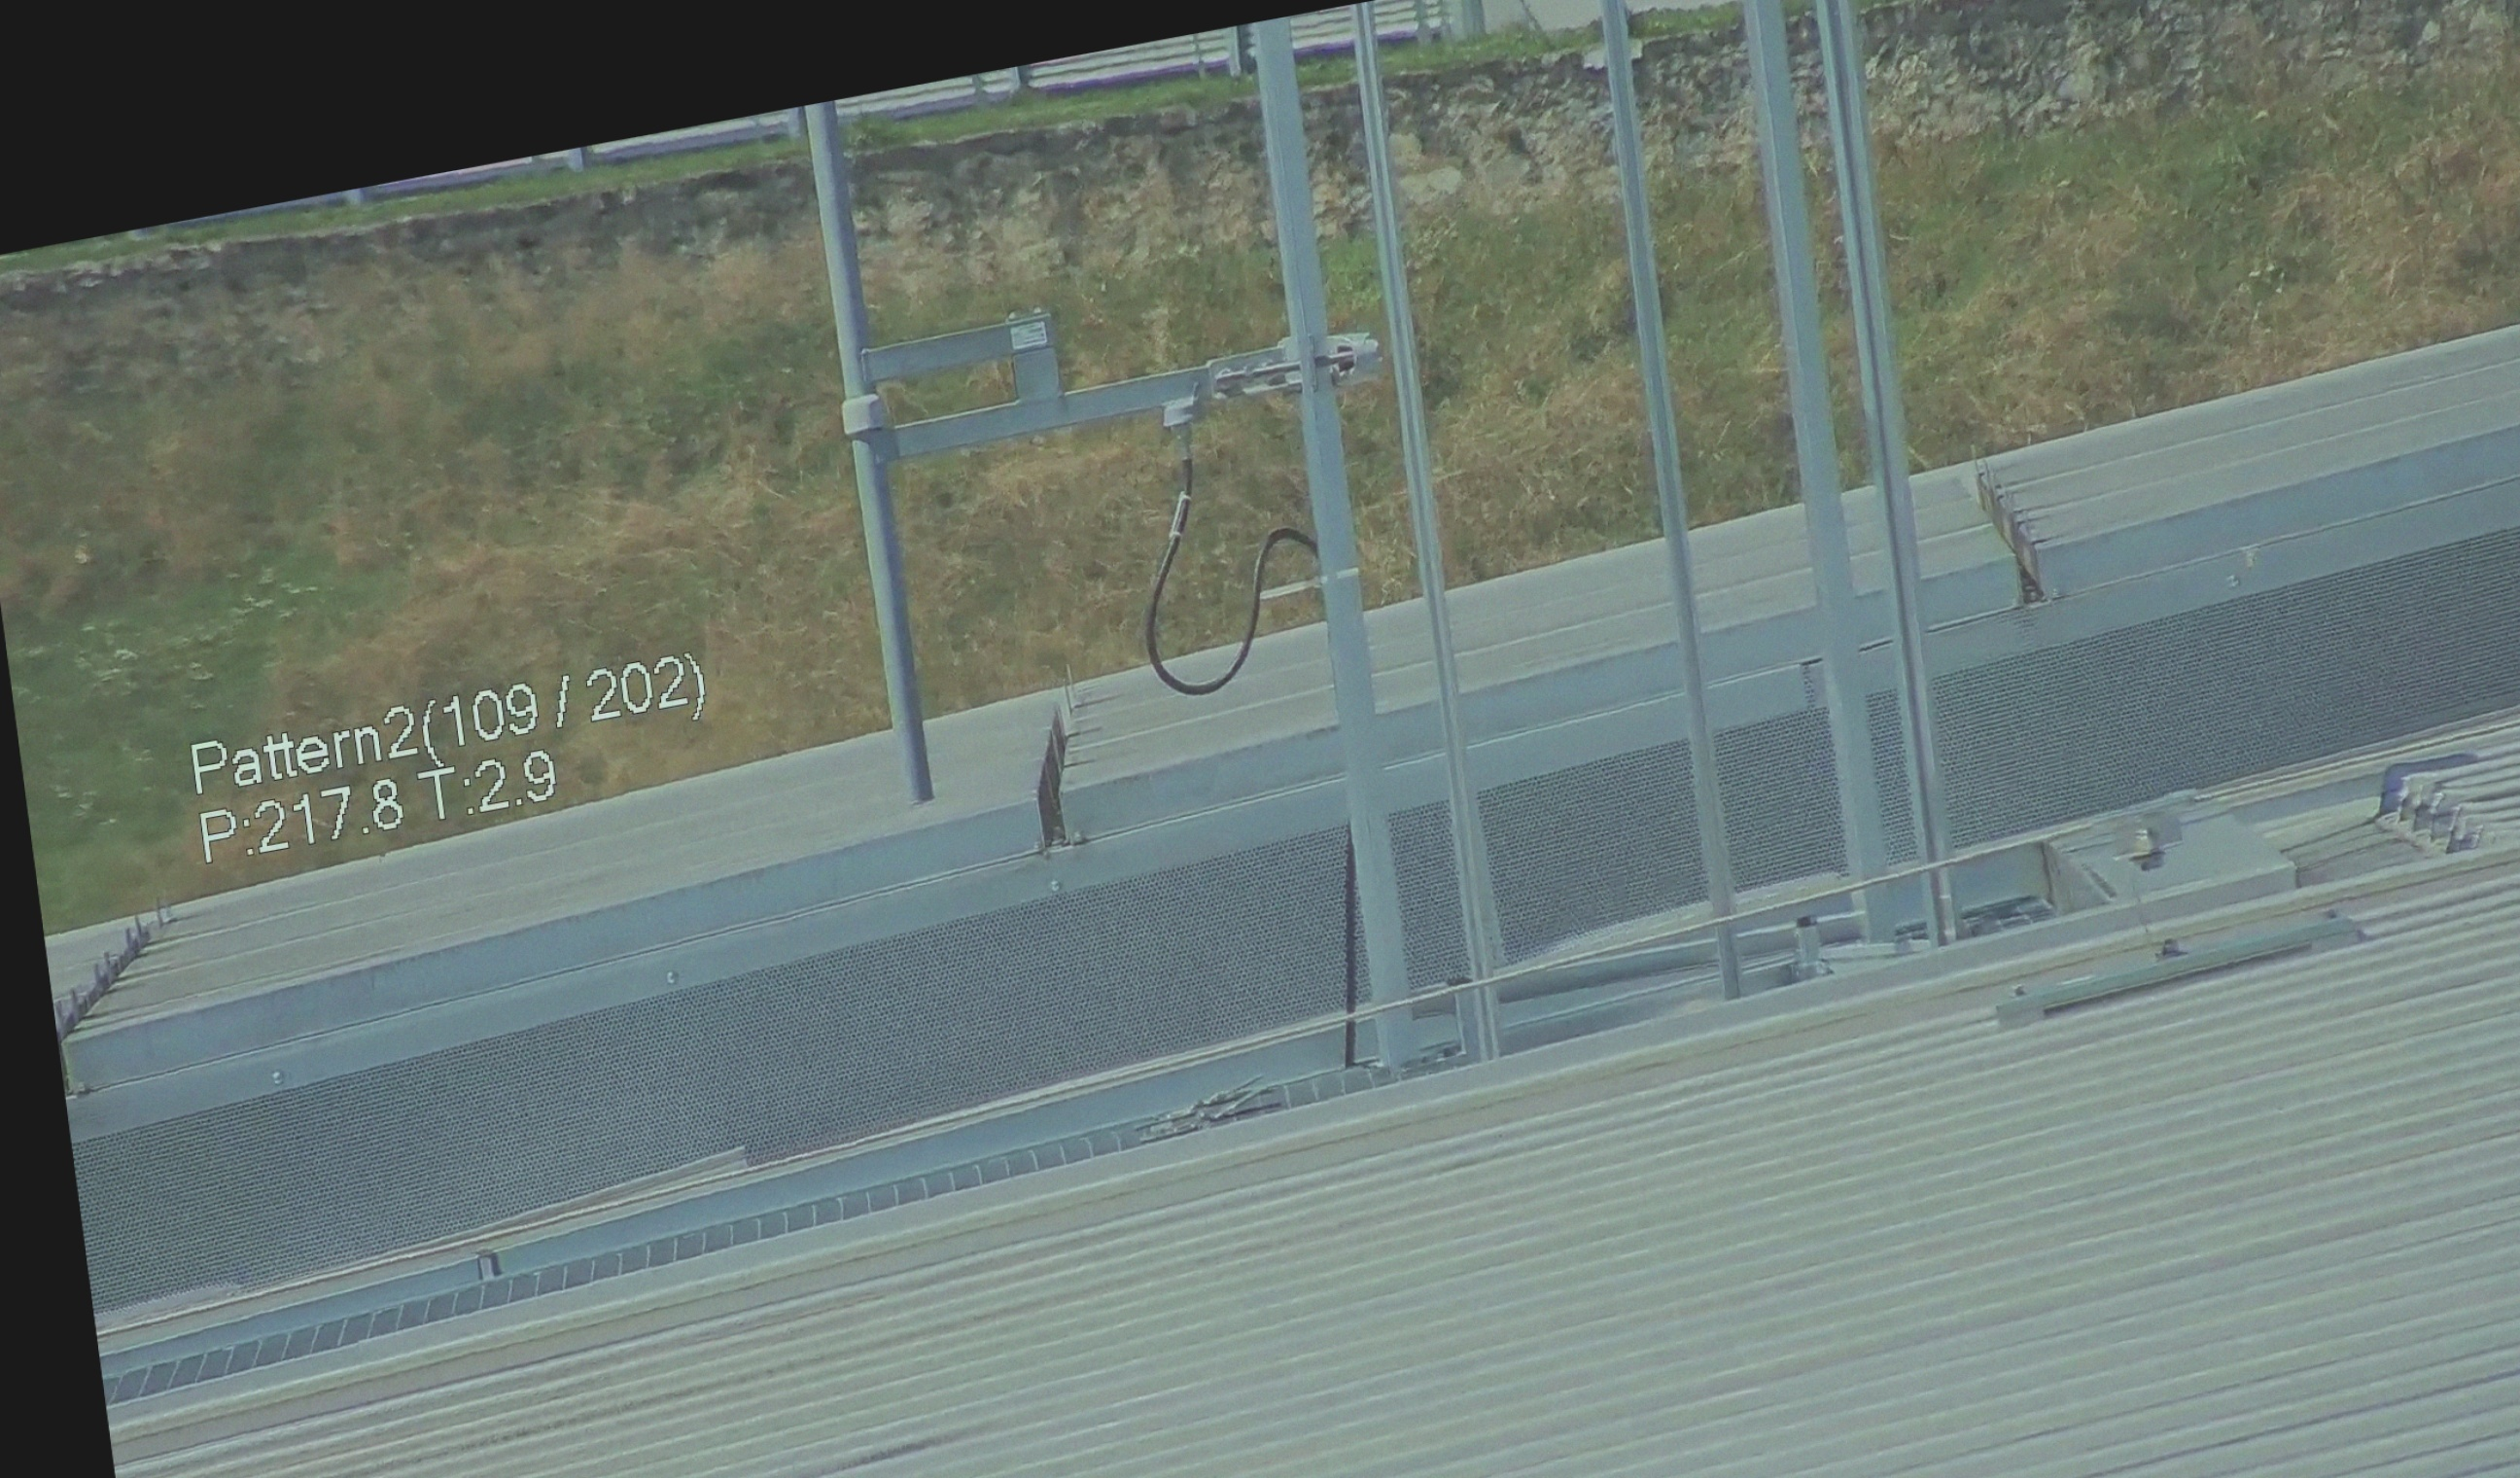Other: (1001, 688, 1097, 860), (1908, 487, 1998, 639)
